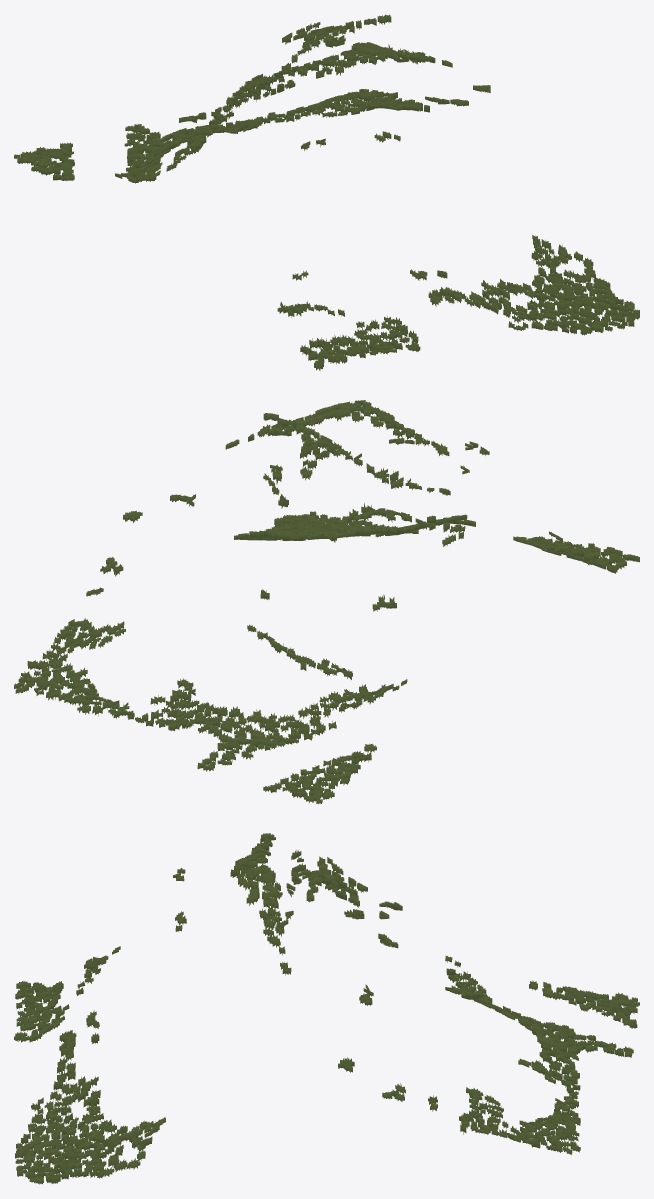
Rendered from TRB8-GRASS-CHUNK-7-2.glb.
3 renders of one model, top to bottom at view 1: azimuth 30°, elevation 25°; view 2: azimuth 150°, elevation 25°; view 3: azimuth 270°, elevation 25°, orthographic. The views are drawn at different scales.
Visible parts, largest first — view 1: TRB8-GRASS-CHUNK-7-2; view 2: TRB8-GRASS-CHUNK-7-2; view 3: TRB8-GRASS-CHUNK-7-2.
Boxes of the visible parts, x1,y1,x2,y2 form: TRB8-GRASS-CHUNK-7-2: [14, 14, 639, 370]; TRB8-GRASS-CHUNK-7-2: [14, 400, 639, 804]; TRB8-GRASS-CHUNK-7-2: [14, 833, 639, 1184].
Size of the model in its own units: 25.61 by 16.72 by 40.56.
1 material, 1 textured.
